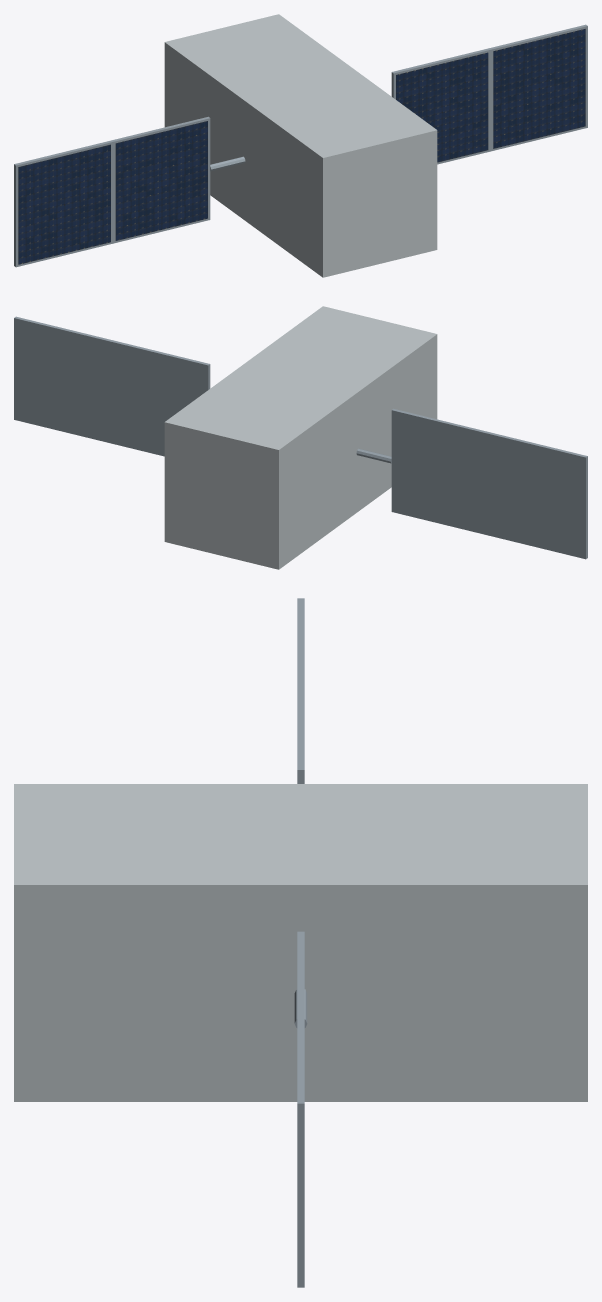
Rendered from ref-astrobus-se-64900.glb.
3 renders of one model, top to bottom at view 1: azimuth 30°, elevation 25°; view 2: azimuth 150°, elevation 25°; view 3: azimuth 270°, elevation 25°, orthographic. The views are drawn at different scales.
Parts seen in each view (by area): view 1: Spacecraft body, Photovoltaic laminates (×4), Array frame (×4); view 2: Spacecraft body, Array frame (×4); view 3: Spacecraft body, Array frame.
Boxes of the visible parts, <box> form: Spacecraft body: <box>164,14,437,277</box>; Photovoltaic laminates (×4): <box>18,29,585,264</box>; Array frame (×4): <box>14,24,587,267</box>; Spacecraft body: <box>164,306,437,569</box>; Array frame (×4): <box>14,316,587,559</box>; Spacecraft body: <box>14,784,587,1101</box>; Array frame: <box>297,1017,304,1287</box>.
Size of the model in its own units: 2.5 by 0.5 by 1.2.
Materials: 3 (1 with a texture image).
